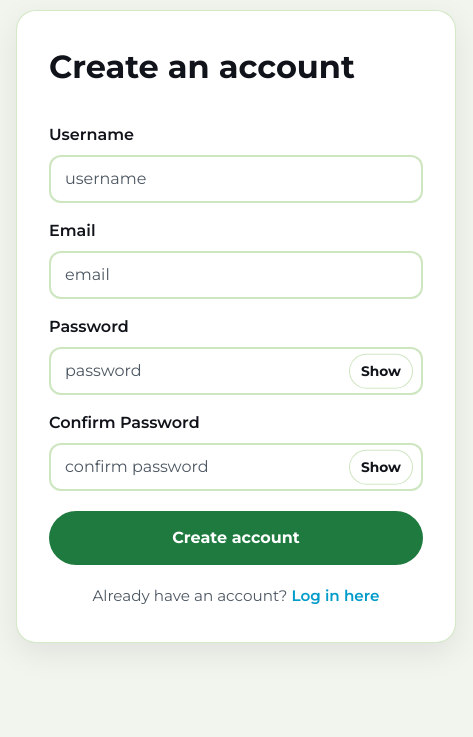
Scenario: Signup page and form › shows a fallback error when verification code request fails without details
Type "victor" into the field labelled "Username" at point(236, 179), box 49,155 -> 423,203
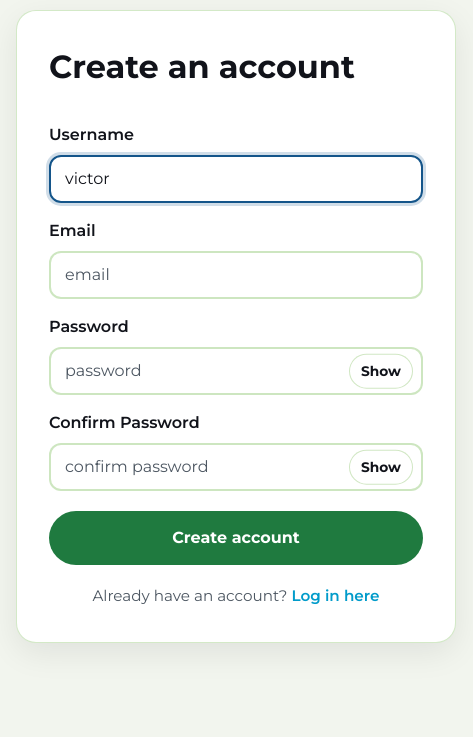
Type "victor@example.com" into the field labelled "Email" at point(236, 275), box 49,251 -> 423,299
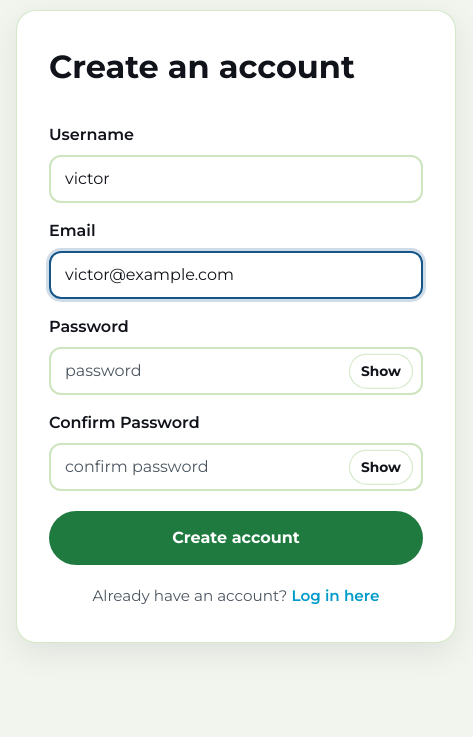
Type "password123" into the password field labelled "Password" at point(236, 371), box 49,347 -> 423,395
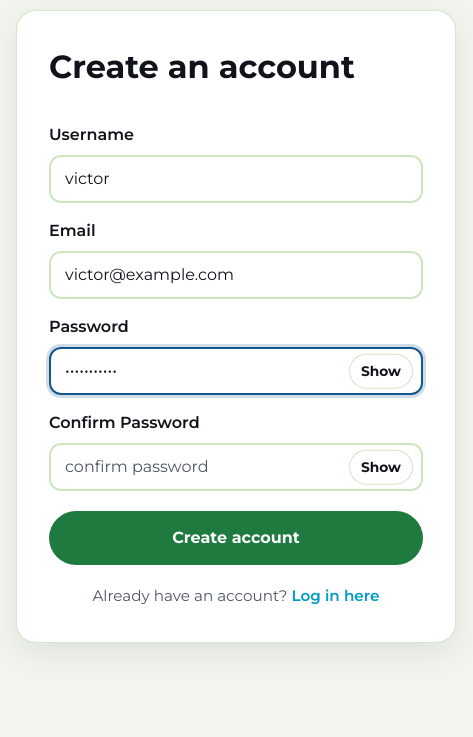
Type "password123" into the password field labelled "Confirm Password" at point(236, 467), box 49,443 -> 423,491
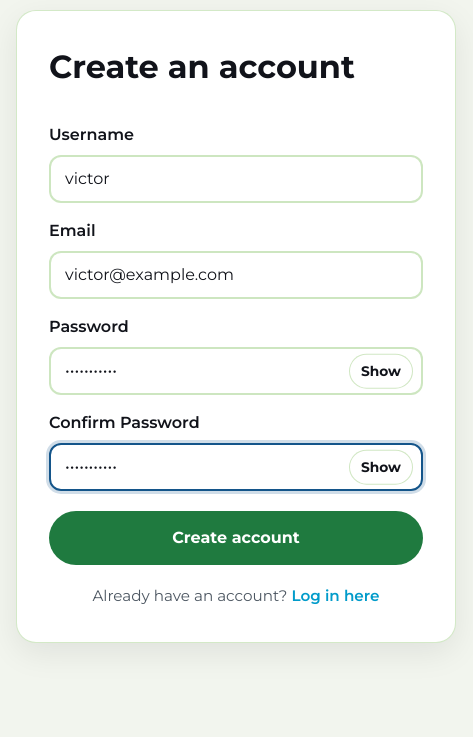
Click the button "Create account" at point(236, 538), box 49,511 -> 423,565
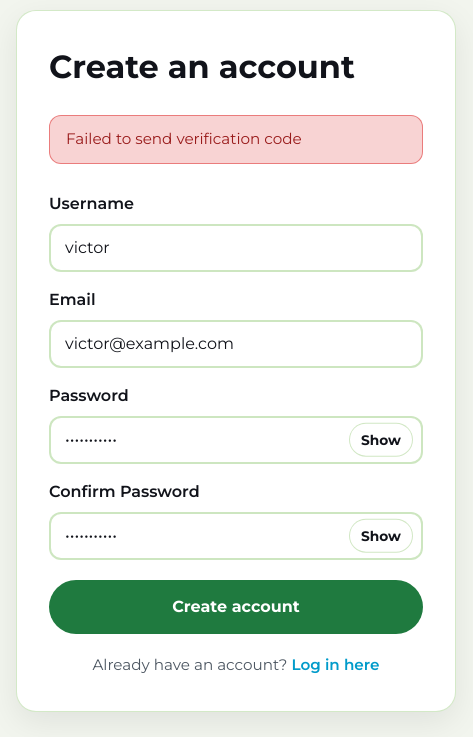
Expected: the text "Failed to send verification code" is shown, 49,115 -> 423,164
